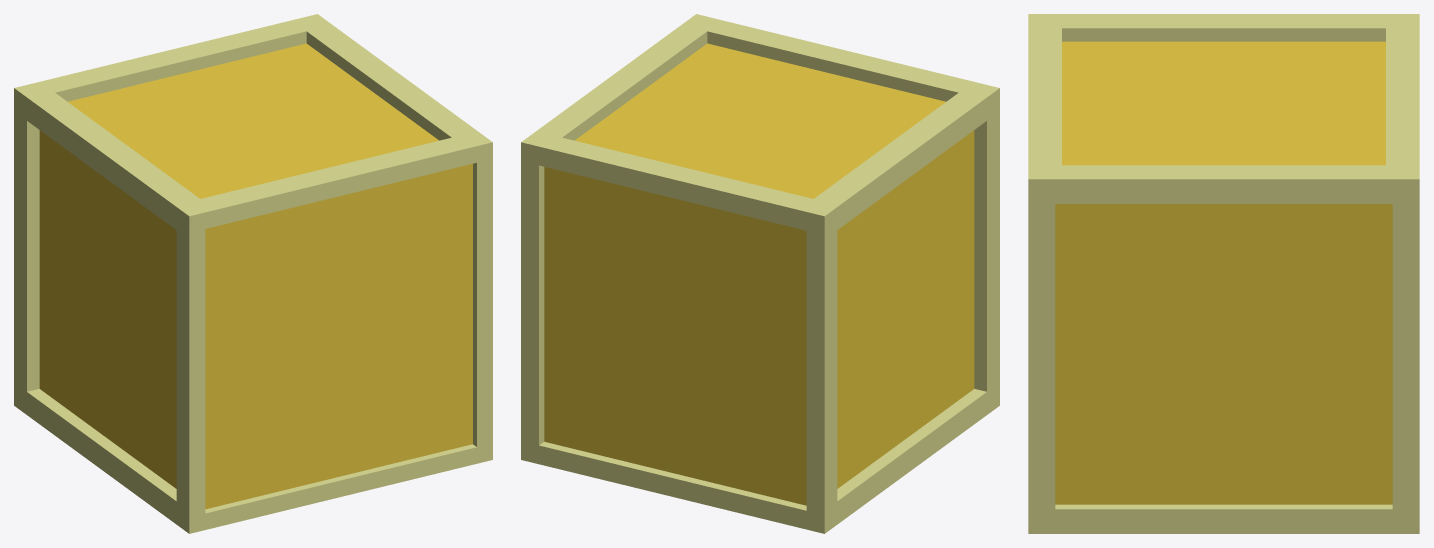
File: Caixa.fbx
3 views of the same model, side by side, from view 1: azimuth 30°, elevation 25°; view 2: azimuth 150°, elevation 25°; view 3: azimuth 270°, elevation 25° (orthographic). The views are drawn at different scales.
Parts seen in each view (by area): view 1: Cube; view 2: Cube; view 3: Cube.
Part boxes in pixels (x1,y1,x2,y2): Cube: [14, 14, 492, 533]; Cube: [521, 14, 999, 533]; Cube: [1028, 14, 1419, 533].
Bounding box in the file's own units: 257 × 257 × 257.
